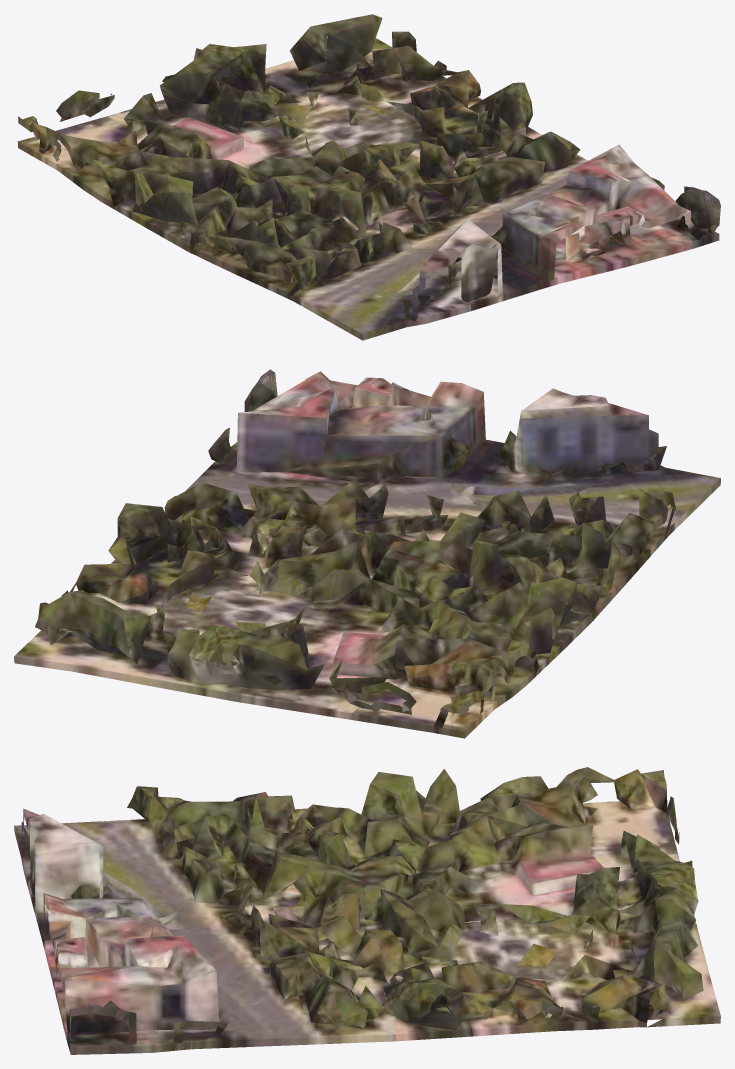
3 renders of one model, top to bottom at view 1: azimuth 30°, elevation 25°; view 2: azimuth 150°, elevation 25°; view 3: azimuth 270°, elevation 25°, orthographic. The views are drawn at different scales.
Visible parts, largest first — view 1: Mesh_0; view 2: Mesh_0; view 3: Mesh_0.
Boxes of the visible parts, <box> form: Mesh_0: <box>17,14,720,340</box>; Mesh_0: <box>14,369,720,738</box>; Mesh_0: <box>14,767,720,1054</box>.
Size of the model in its own units: 270 by 42.19 by 330.
Materials: 2 (2 with a texture image).
